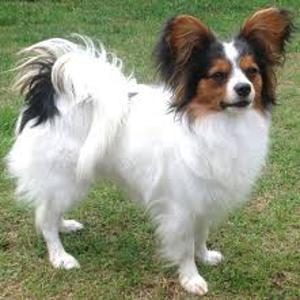yell: (8, 7, 292, 294)
